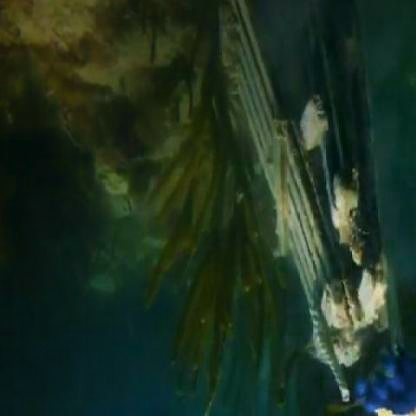misc: (242, 80, 392, 298)
